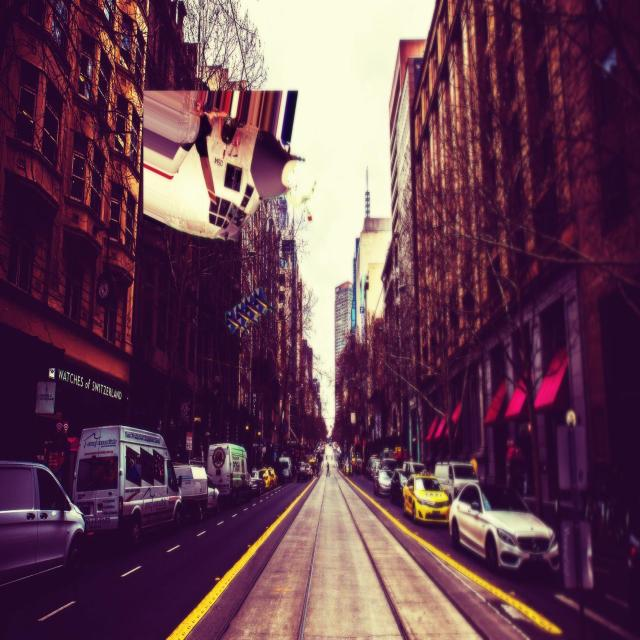airplane: (141, 86, 305, 243)
